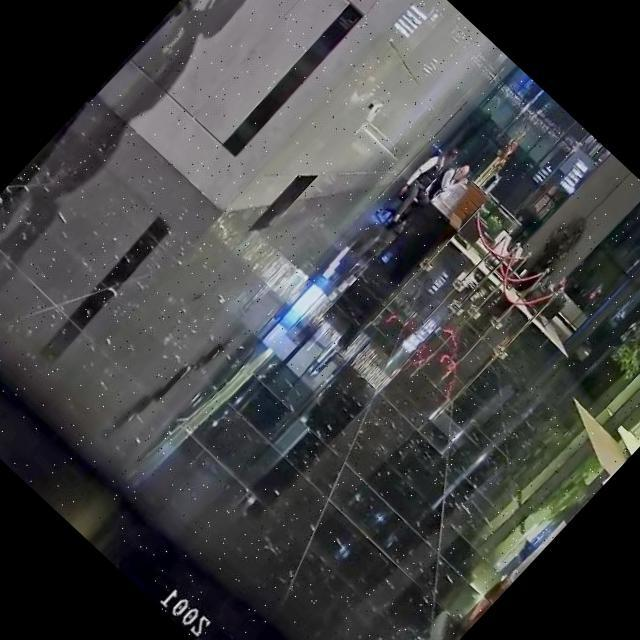person: (384, 137, 468, 225), (424, 156, 474, 208)
